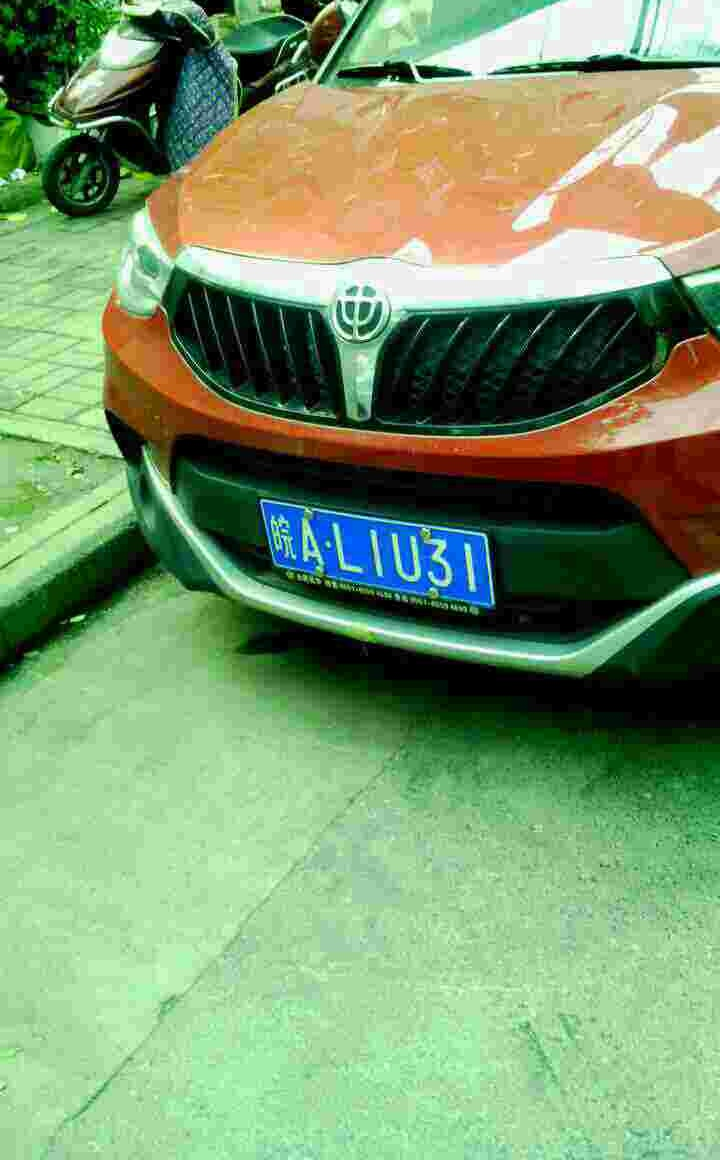license_plate: (263, 500, 503, 611)
